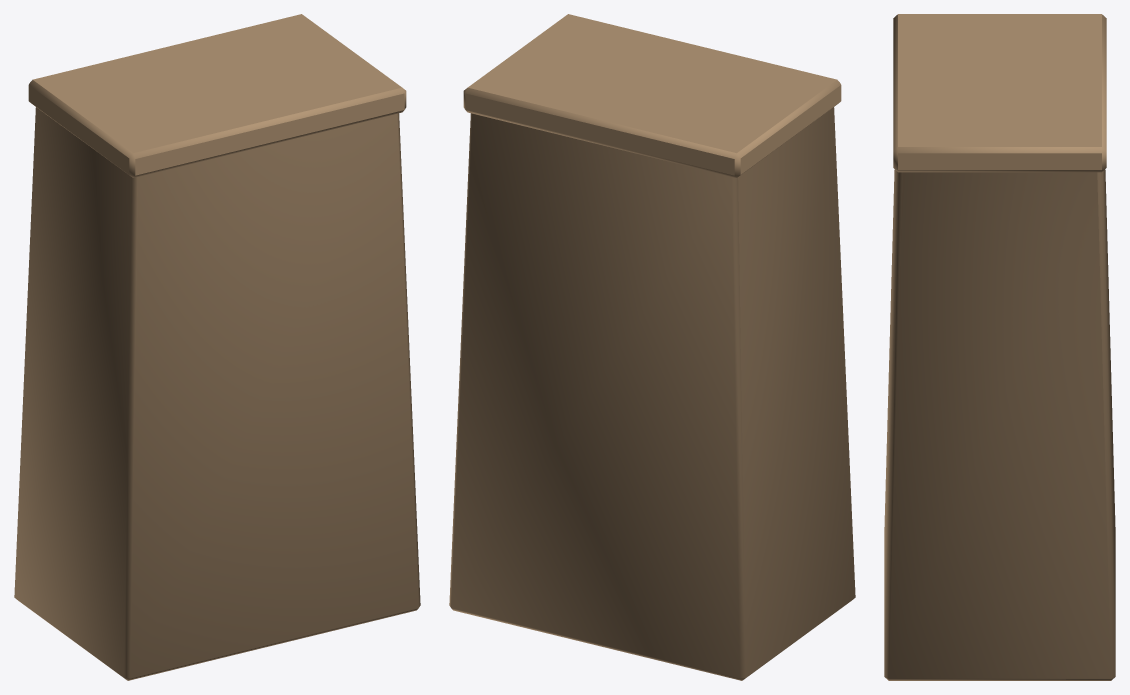
Rendered from takeout_bag.glb.
3 renders of one model, left to right at view 1: azimuth 30°, elevation 25°; view 2: azimuth 150°, elevation 25°; view 3: azimuth 270°, elevation 25°, orthographic.
Visible parts, largest first — view 1: takeout_bag; view 2: takeout_bag; view 3: takeout_bag.
Boxes of the visible parts, box(x1,y1,x2,y2) form: takeout_bag: box(14, 14, 420, 680); takeout_bag: box(449, 14, 855, 680); takeout_bag: box(884, 14, 1115, 680).
Size of the model in its own units: 0.1499 by 0.252 by 0.0999.
